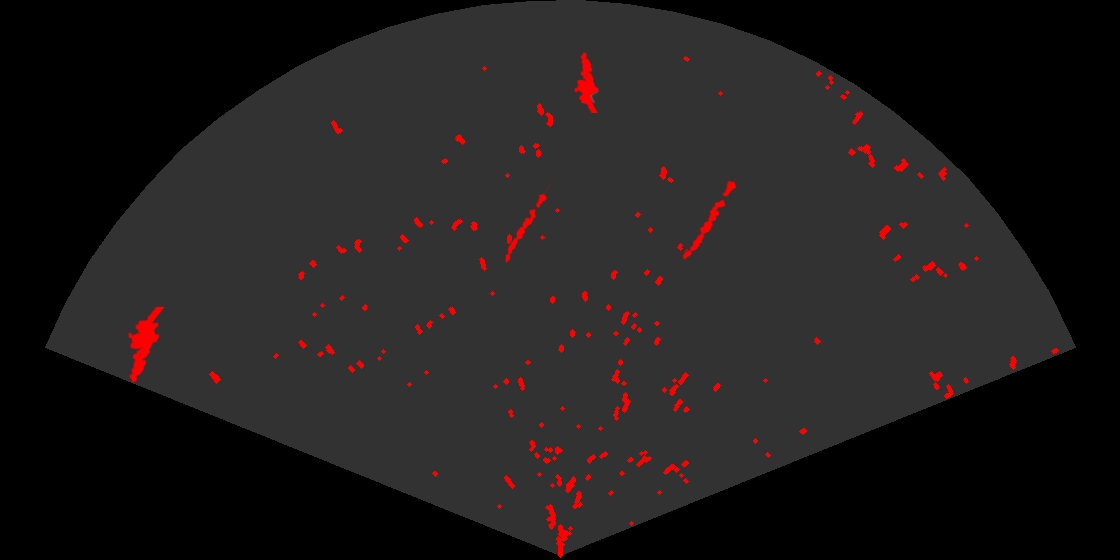chain: (681, 175, 740, 261), (503, 184, 552, 264)
frogman: (126, 307, 167, 384), (572, 51, 600, 113)
